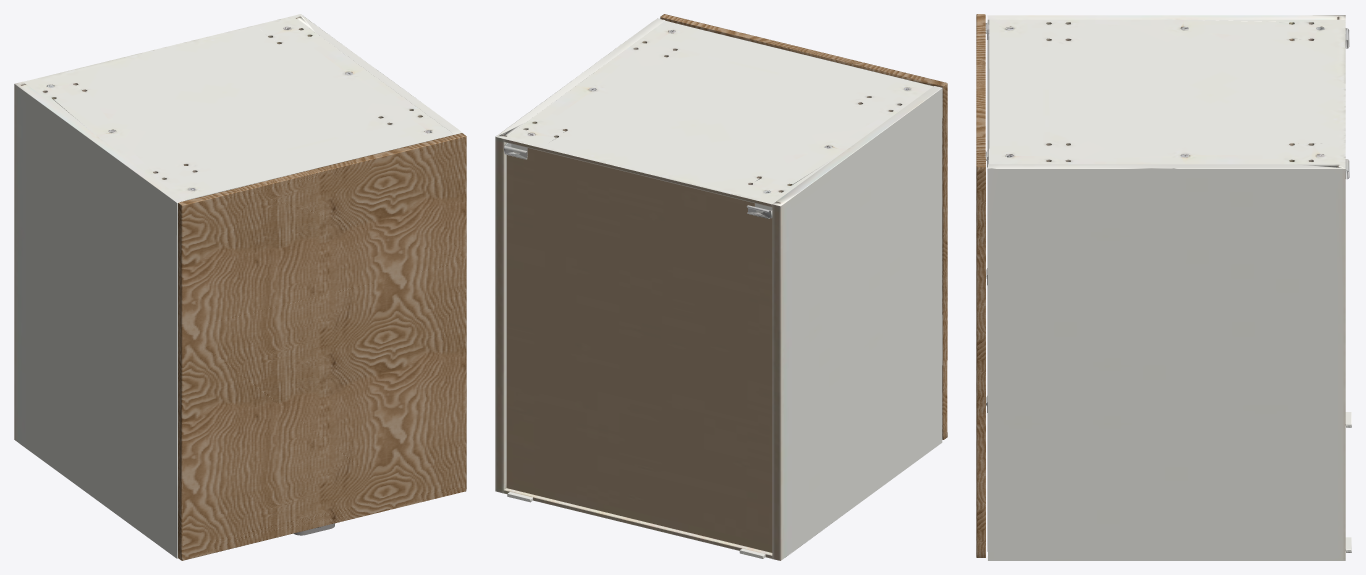
File: AdaptaHouse.glb
The picture shows the model from 3 angles, left to right: view 1: azimuth 30°, elevation 25°; view 2: azimuth 150°, elevation 25°; view 3: azimuth 270°, elevation 25°; orthographic projection. The views are drawn at different scales.
Visible parts, largest first — view 1: METOD_695.073.004, METOD_695.073.002; view 2: METOD_695.073.004, METOD_695.073.002; view 3: METOD_695.073.004, METOD_695.073.002.
Boxes of the visible parts, bbox=[...] form: METOD_695.073.004: bbox=[14, 14, 463, 558]; METOD_695.073.002: bbox=[178, 133, 466, 560]; METOD_695.073.004: bbox=[495, 18, 942, 560]; METOD_695.073.002: bbox=[660, 14, 947, 439]; METOD_695.073.004: bbox=[987, 15, 1351, 560]; METOD_695.073.002: bbox=[976, 14, 989, 557].
Bounding box in the file's own units: 0.6006 × 0.7341 × 0.6184.
6 materials, 4 textured.
